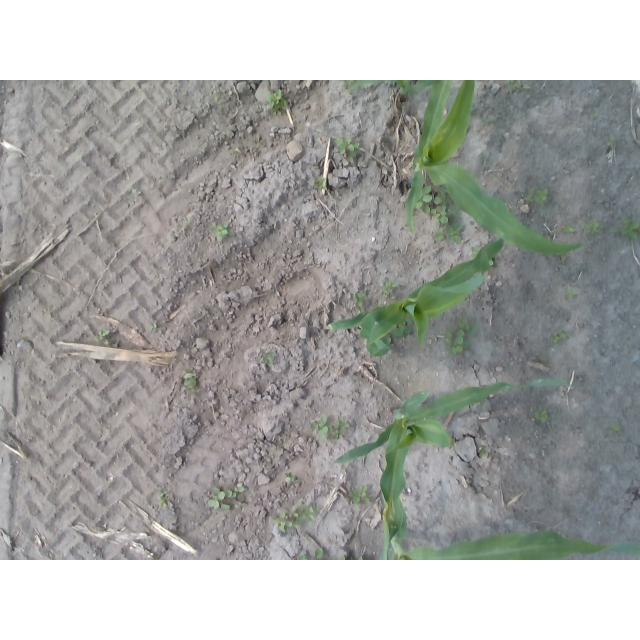Maize: (332, 378, 575, 560), (407, 80, 581, 254), (324, 239, 505, 356), (392, 497, 640, 560), (345, 81, 440, 108)
Weeds: (446, 318, 479, 352), (431, 224, 463, 244), (207, 486, 233, 509), (421, 186, 441, 212), (270, 89, 287, 115), (338, 137, 359, 156), (311, 415, 329, 437), (274, 511, 292, 532), (351, 485, 369, 505), (434, 205, 451, 224), (621, 217, 637, 237), (212, 222, 227, 242), (378, 281, 399, 295), (300, 548, 323, 560), (507, 80, 529, 92), (300, 504, 315, 520), (184, 369, 197, 387), (535, 188, 548, 205), (355, 291, 366, 309), (552, 329, 566, 343), (263, 352, 278, 365), (159, 493, 173, 506), (335, 417, 350, 429), (98, 328, 111, 340), (586, 222, 599, 234), (536, 410, 547, 422), (611, 423, 621, 434), (564, 224, 576, 233), (607, 135, 617, 145), (333, 429, 343, 439), (234, 486, 245, 495), (316, 179, 325, 190), (487, 116, 497, 125), (479, 450, 489, 459), (212, 92, 220, 102), (566, 289, 574, 299), (292, 507, 299, 518), (524, 194, 533, 202), (150, 324, 158, 332), (284, 473, 292, 481)
